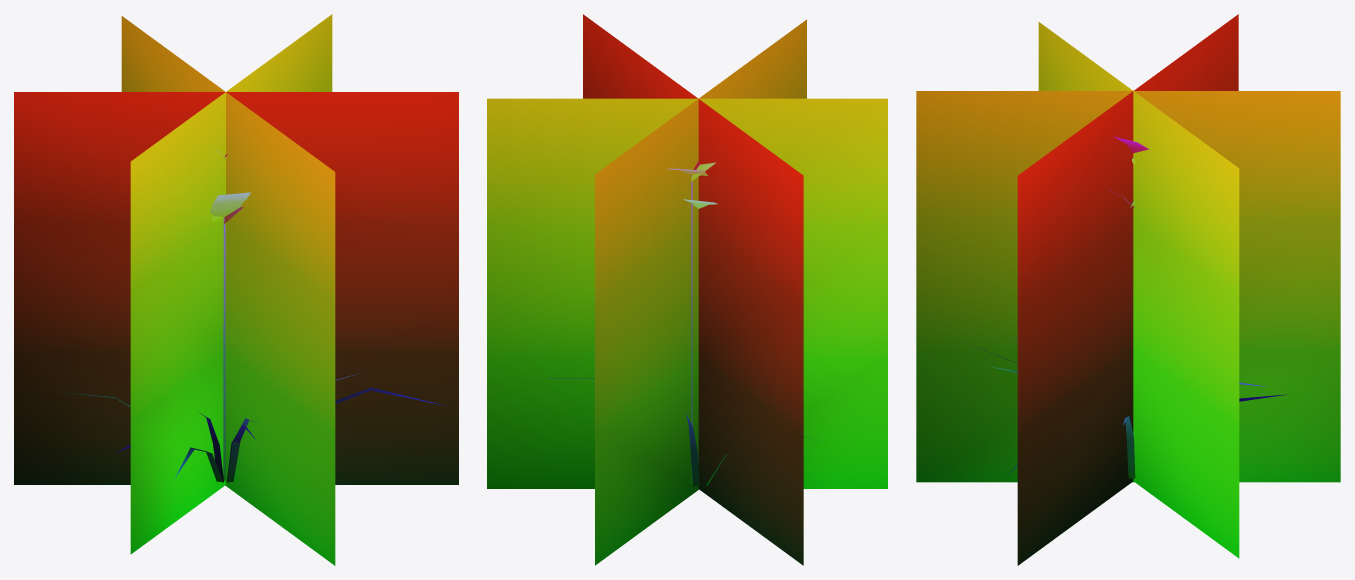
The model's file is Grass_Sedge_A.fbx.
The picture shows the model from 3 angles, left to right: view 1: azimuth 30°, elevation 25°; view 2: azimuth 150°, elevation 25°; view 3: azimuth 270°, elevation 25°; orthographic projection.
Parts seen in each view (by area): view 1: Grass_Sedge_A_LOD0; view 2: Grass_Sedge_A_LOD0; view 3: Grass_Sedge_A_LOD0.
Part boxes in pixels (<box>): Grass_Sedge_A_LOD0: <box>14,14,458,565</box>; Grass_Sedge_A_LOD0: <box>487,14,887,565</box>; Grass_Sedge_A_LOD0: <box>916,14,1340,565</box>.
Size of what is drawn, in the model's own units: 0.5129 by 0.5789 by 0.5685.
